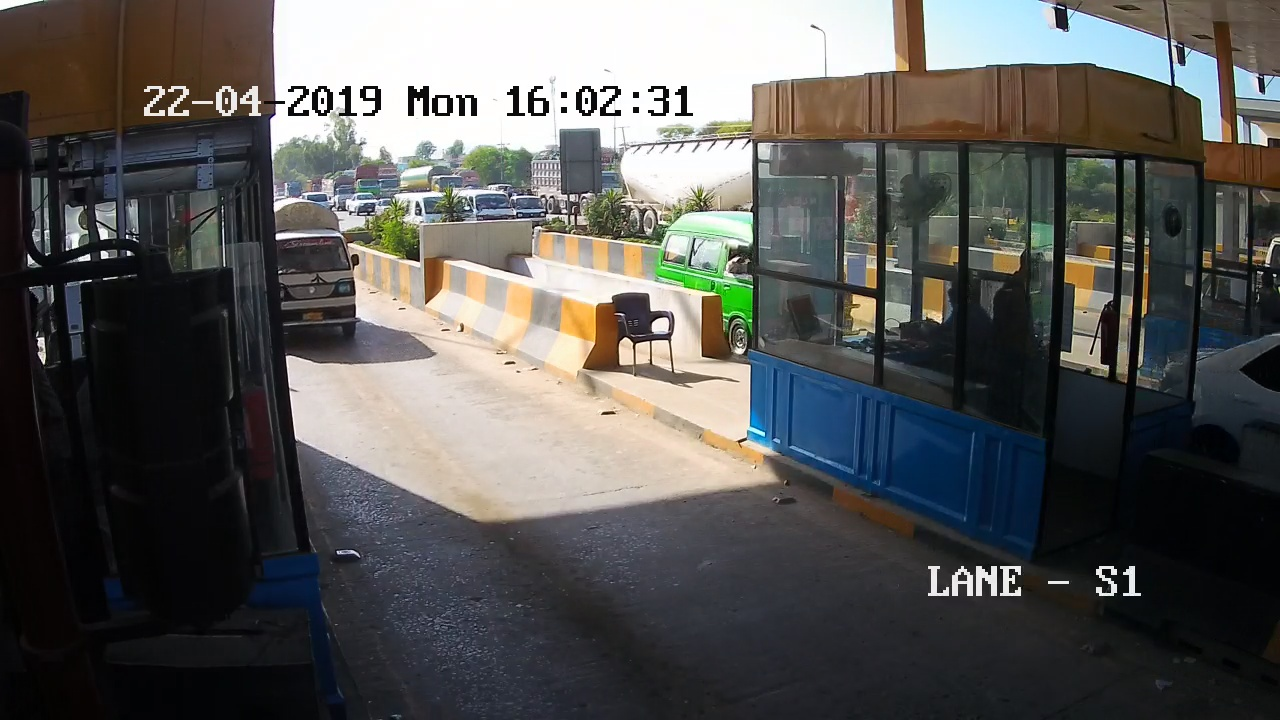car: (271, 198, 379, 372)
